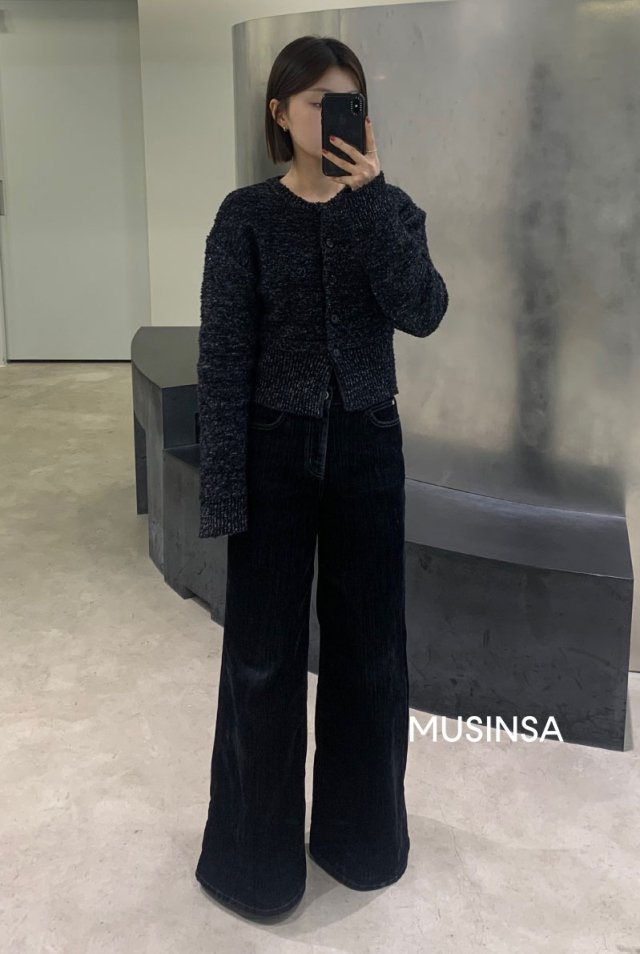Outer: (201, 172, 460, 416)
Pants: (200, 392, 419, 912)
